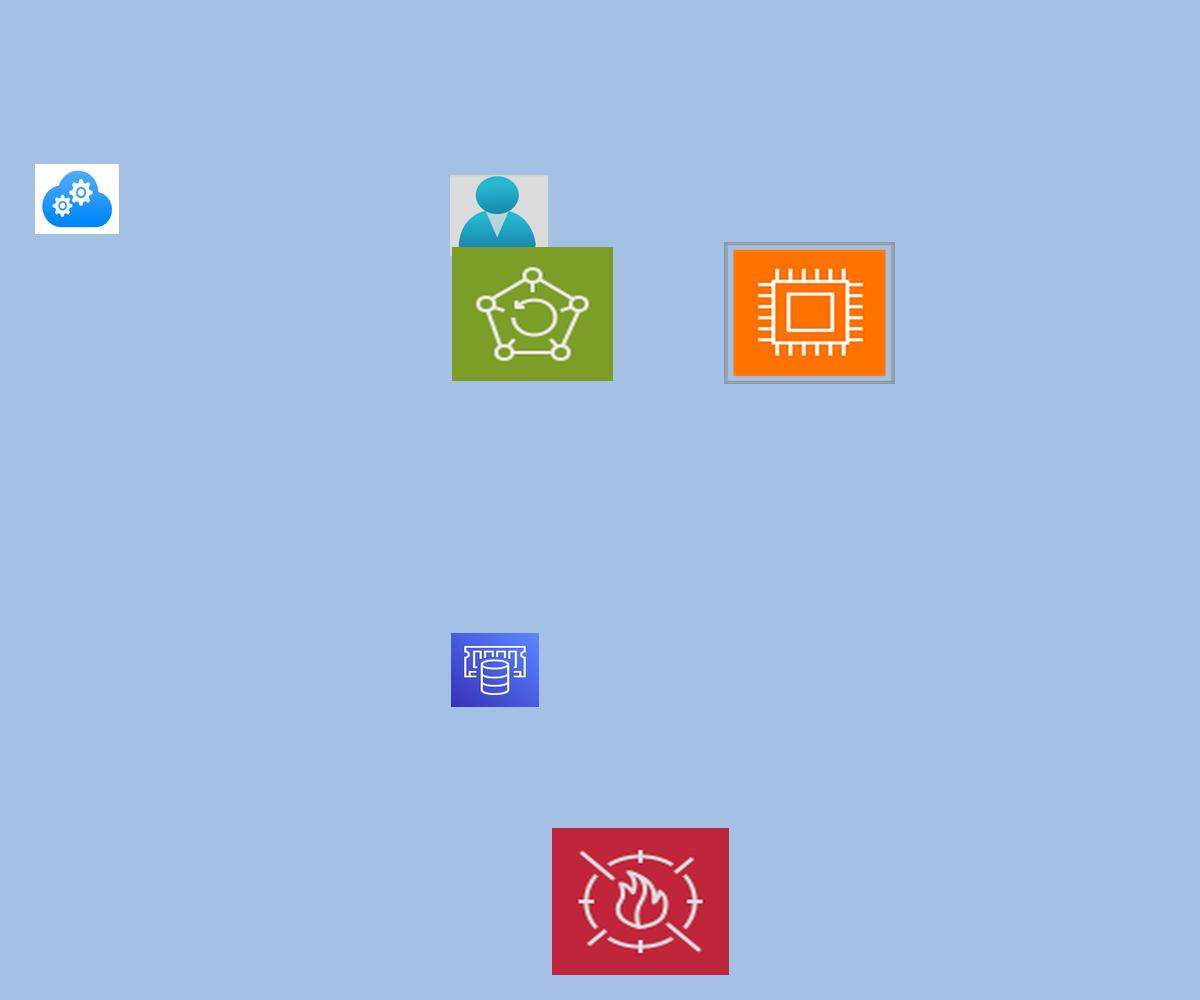AWS-Backup: (452, 247, 613, 381)
AWS-Category_Compute: (724, 242, 895, 384)
AWS-ElastiCache: (451, 633, 539, 707)
AWS-WAF: (552, 828, 729, 975)
Azure_cloud_services: (35, 164, 119, 234)
Azure_users: (450, 175, 548, 256)
